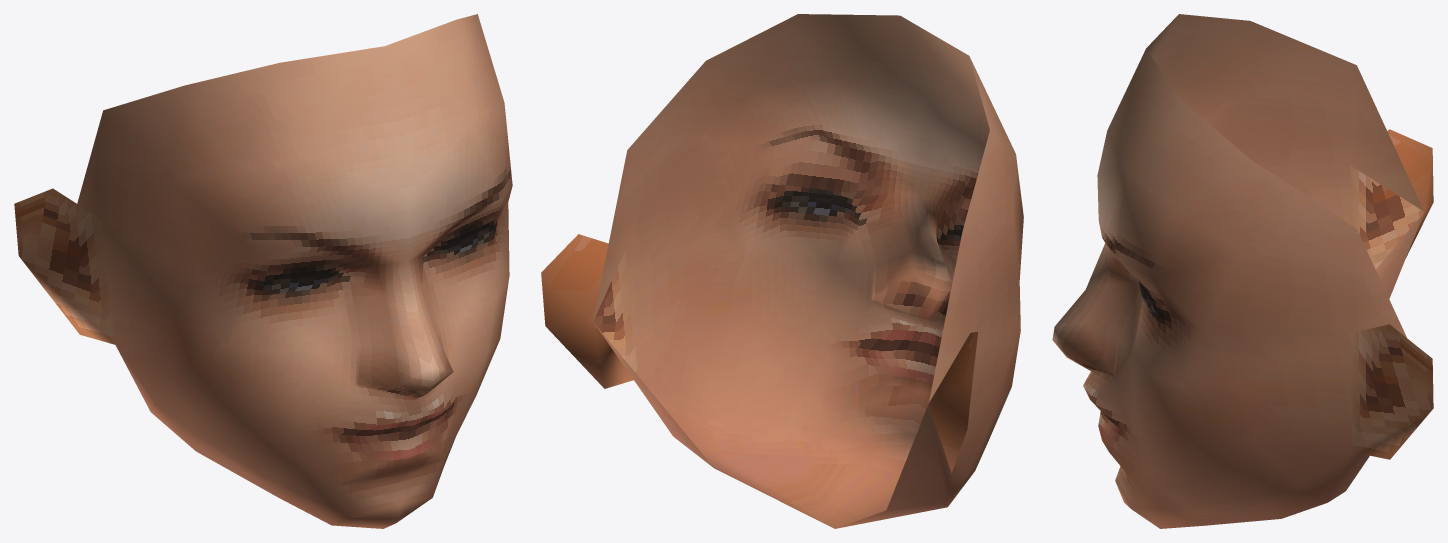
3 renders of one model, left to right at view 1: azimuth 30°, elevation 25°; view 2: azimuth 150°, elevation 25°; view 3: azimuth 270°, elevation 25°, orthographic. The views are drawn at different scales.
Visible parts, largest first — view 1: editpl_f-0000-1846, editpl_f-0000-1845; view 2: editpl_f-0000-1846, editpl_f-0000-1845; view 3: editpl_f-0000-1846, editpl_f-0000-1845.
Part boxes in pixels (x1=…): editpl_f-0000-1846: x1=14, y1=14, x2=512, y2=402; editpl_f-0000-1845: x1=102, y1=220, x2=509, y2=528; editpl_f-0000-1846: x1=541, y1=14, x2=1023, y2=472; editpl_f-0000-1845: x1=593, y1=249, x2=1020, y2=528; editpl_f-0000-1846: x1=1052, y1=14, x2=1433, y2=459; editpl_f-0000-1845: x1=1054, y1=165, x2=1424, y2=528.
Bounding box in the file's own units: 19.4 × 20.14 × 14.84.
